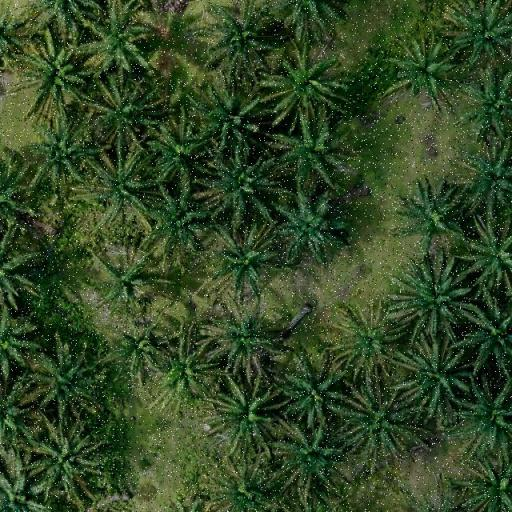Ganoderma: (345, 320, 396, 369)
